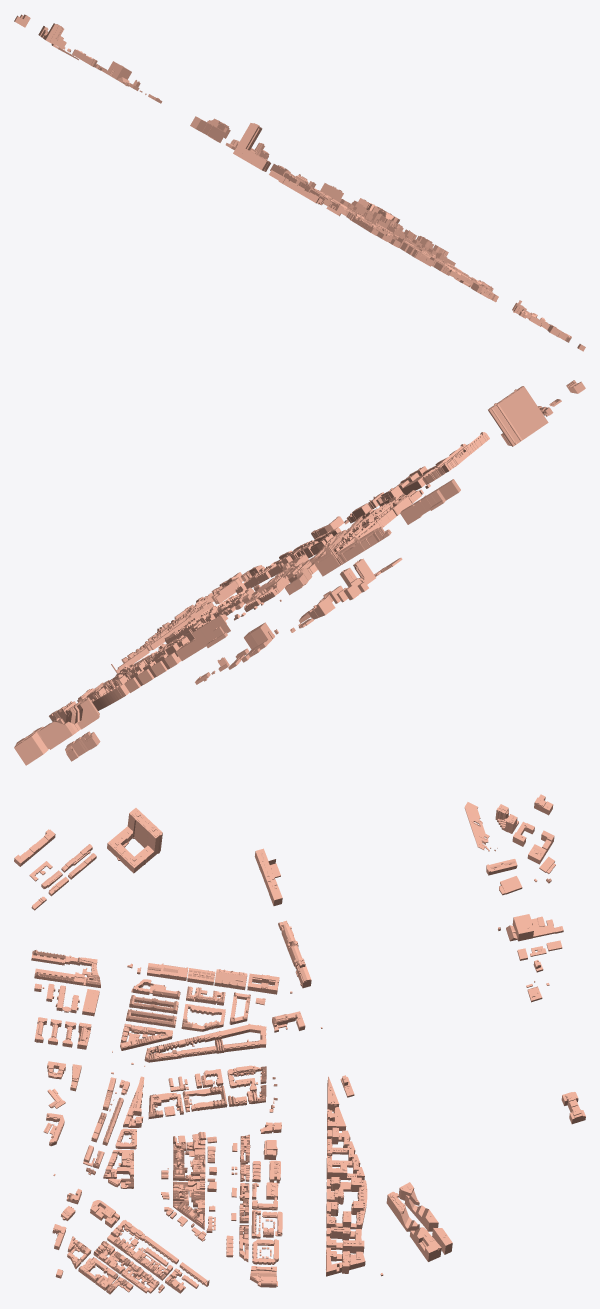
3 views of the same model, one above another, from view 1: azimuth 30°, elevation 25°; view 2: azimuth 150°, elevation 25°; view 3: azimuth 270°, elevation 25° (orthographic). The views are drawn at different scales.
Bounding box in the file's own units: 3.48e+07 × 2.61e+07 × 4.23e+07.
